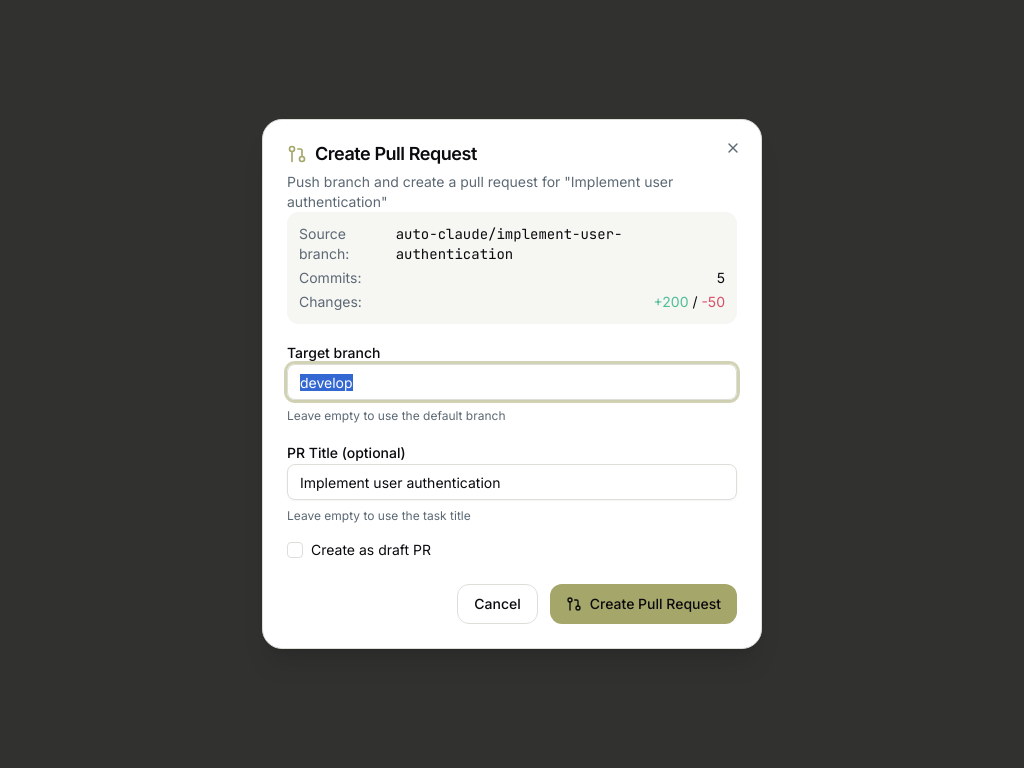
Scenario: CreatePRDialog › should show success state after PR is created
Click the button "Create Pull Request": (643, 604) [550, 584, 737, 624]
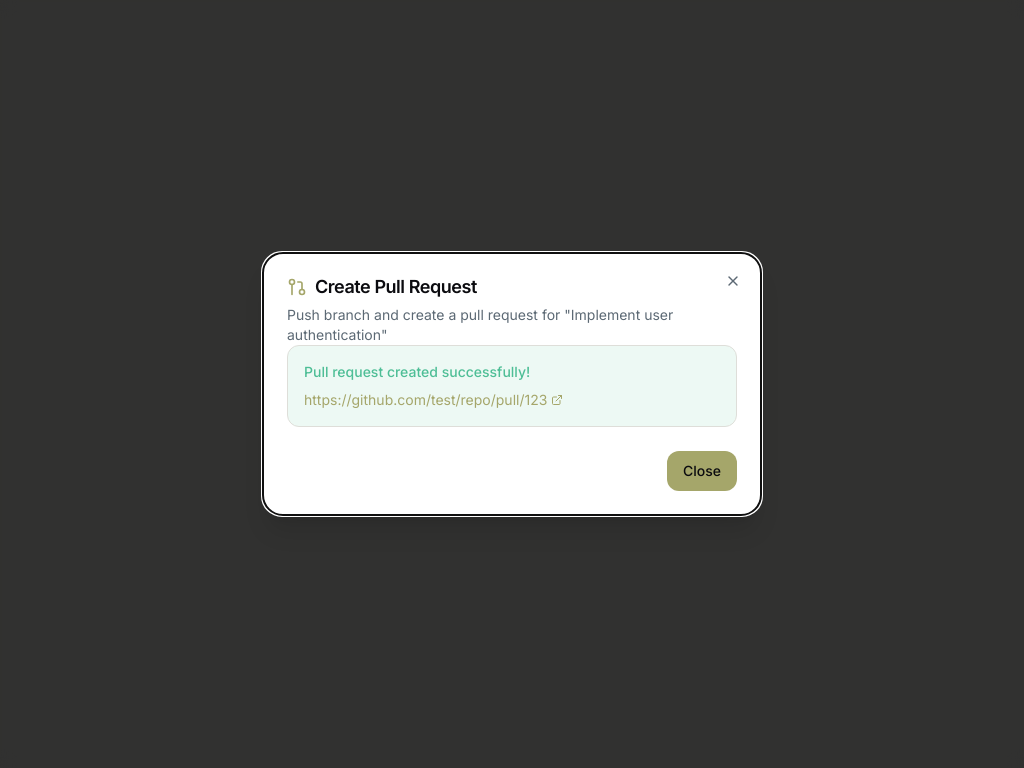
Expected: the button "https://github.com/test/repo/pull/123" is shown, [304, 390, 563, 410]
